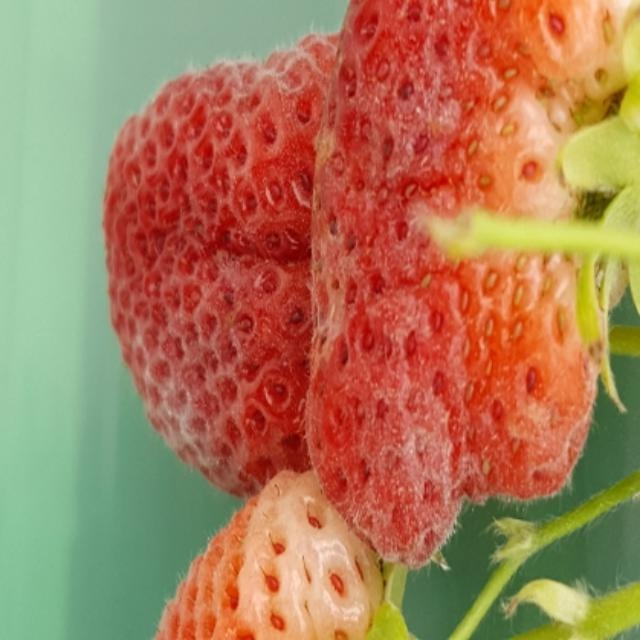Powdery Mildew Fruit: (302, 0, 640, 568), (100, 30, 336, 501)
